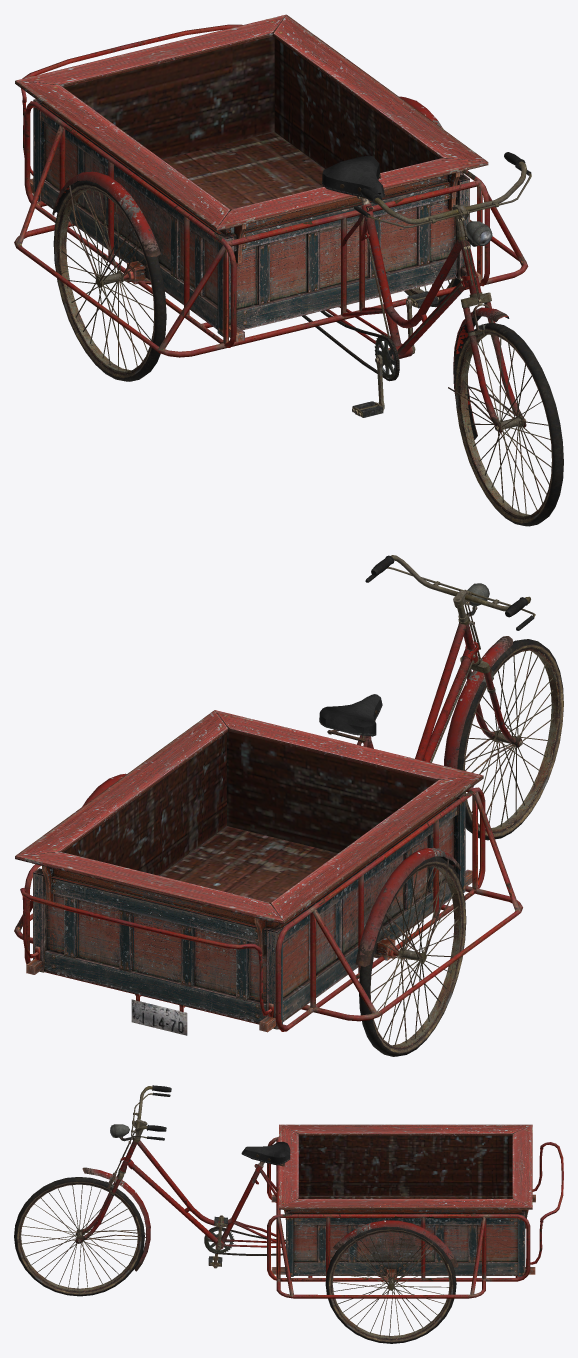
Rendered from sanlunche.FBX.
The picture shows the model from 3 angles, top to bottom: view 1: azimuth 30°, elevation 25°; view 2: azimuth 150°, elevation 25°; view 3: azimuth 270°, elevation 25°; orthographic projection. The views are drawn at different scales.
Parts seen in each view (by area): view 1: Obj3d66-781108-1-814, Obj3d66-781108-2-774, Obj3d66-781108-3-508, Obj3d66-781108-4-664; view 2: Obj3d66-781108-1-814, Obj3d66-781108-2-774, Obj3d66-781108-4-664, Obj3d66-781108-3-508; view 3: Obj3d66-781108-1-814, Obj3d66-781108-2-774, Obj3d66-781108-3-508, Obj3d66-781108-4-664.
Part boxes in pixels (x1,y1,x2,y2): Obj3d66-781108-1-814: [14, 14, 528, 357]; Obj3d66-781108-2-774: [52, 96, 531, 439]; Obj3d66-781108-3-508: [455, 322, 563, 526]; Obj3d66-781108-4-664: [53, 180, 470, 381]; Obj3d66-781108-1-814: [14, 710, 522, 1035]; Obj3d66-781108-2-774: [82, 555, 535, 966]; Obj3d66-781108-4-664: [359, 856, 466, 1056]; Obj3d66-781108-3-508: [457, 639, 563, 840]; Obj3d66-781108-1-814: [267, 1124, 563, 1298]; Obj3d66-781108-2-774: [75, 1085, 458, 1285]; Obj3d66-781108-3-508: [14, 1177, 144, 1296]; Obj3d66-781108-4-664: [325, 1226, 456, 1343].
Bounding box in the file's own units: 147 × 115 × 300.
